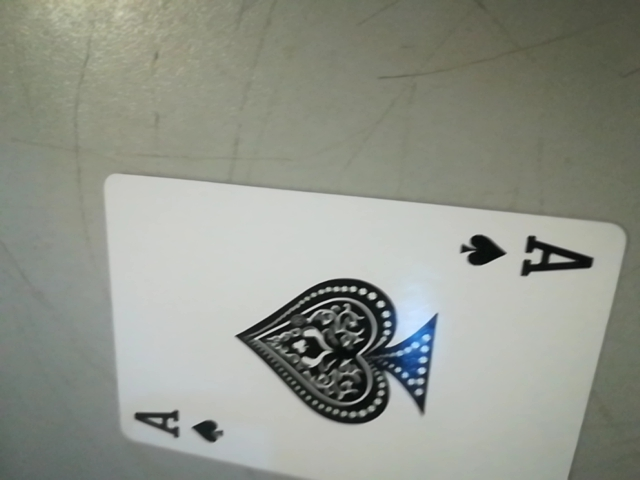ht a: (445, 223, 611, 282), (110, 400, 247, 461)
